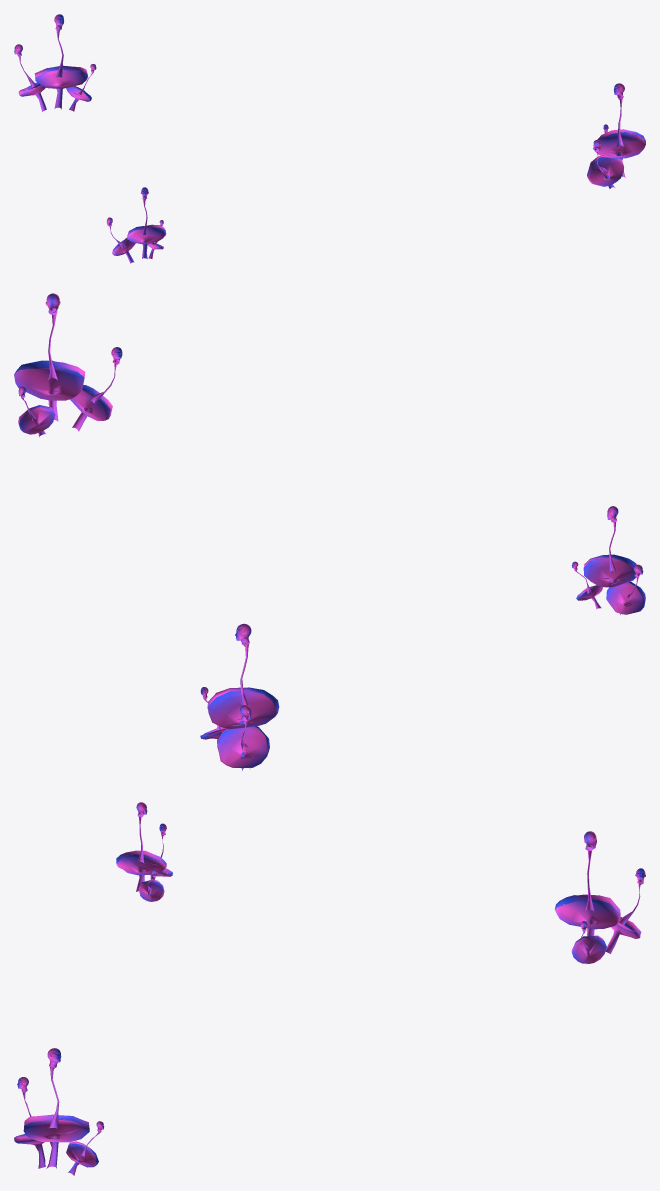
Rendered from hongos.glb.
3 views of the same model, one above another, from view 1: azimuth 30°, elevation 25°; view 2: azimuth 150°, elevation 25°; view 3: azimuth 270°, elevation 25° (orthographic). The views are drawn at different scales.
Visible parts, largest first — view 1: mesh_hongos:Mesh; view 2: mesh_hongos:Mesh; view 3: mesh_hongos:Mesh.
Part boxes in pixels (x1,y1,x2,y2): mesh_hongos:Mesh: [14, 14, 645, 263]; mesh_hongos:Mesh: [14, 293, 645, 770]; mesh_hongos:Mesh: [14, 802, 645, 1175].
Bounding box in the file's own units: 4.76 × 0.9236 × 4.14.
1 material, 1 textured.
